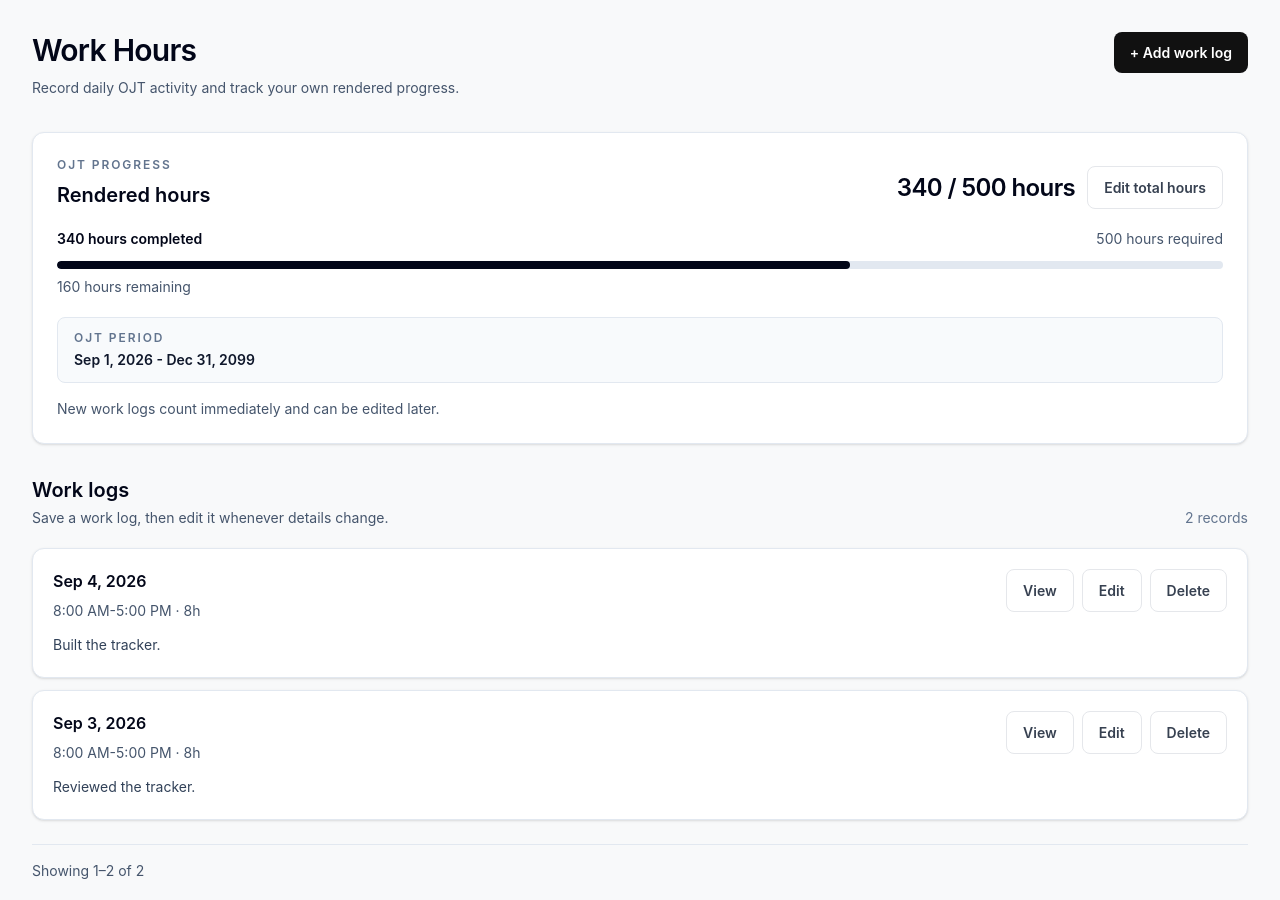
it: WorkHoursView › keeps the modal and entered values after validation failure
The width and height of the screenshot is (1280, 900).
Click the button with test id "add-work-log". click: (1181, 52)
box: [1114, 32, 1248, 73]
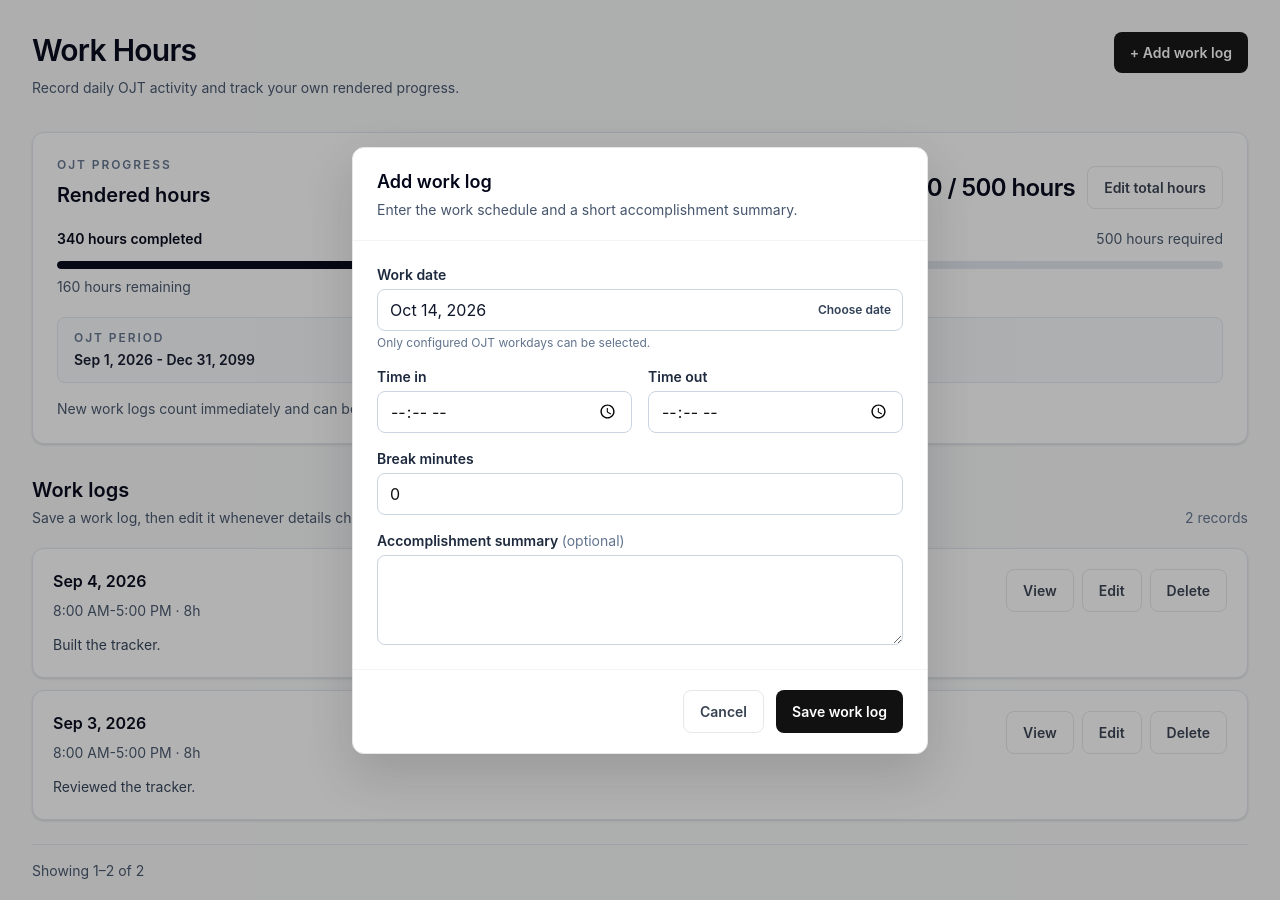
Type "08:00" into the time field with id "time-in". click: (504, 412)
box: [377, 390, 632, 432]
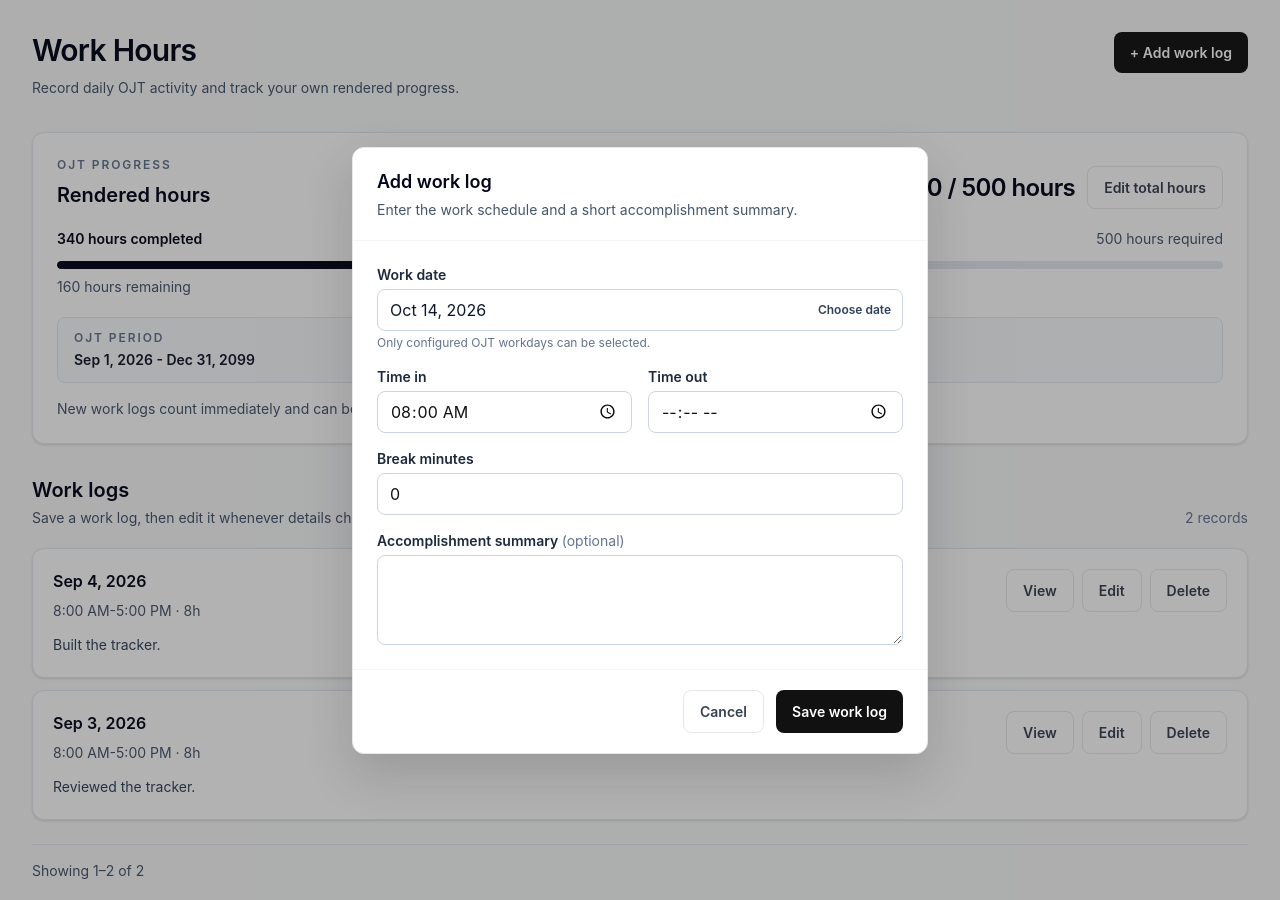
Type "17:00" into the time field with id "time-out". click: (776, 412)
box: [648, 390, 903, 432]
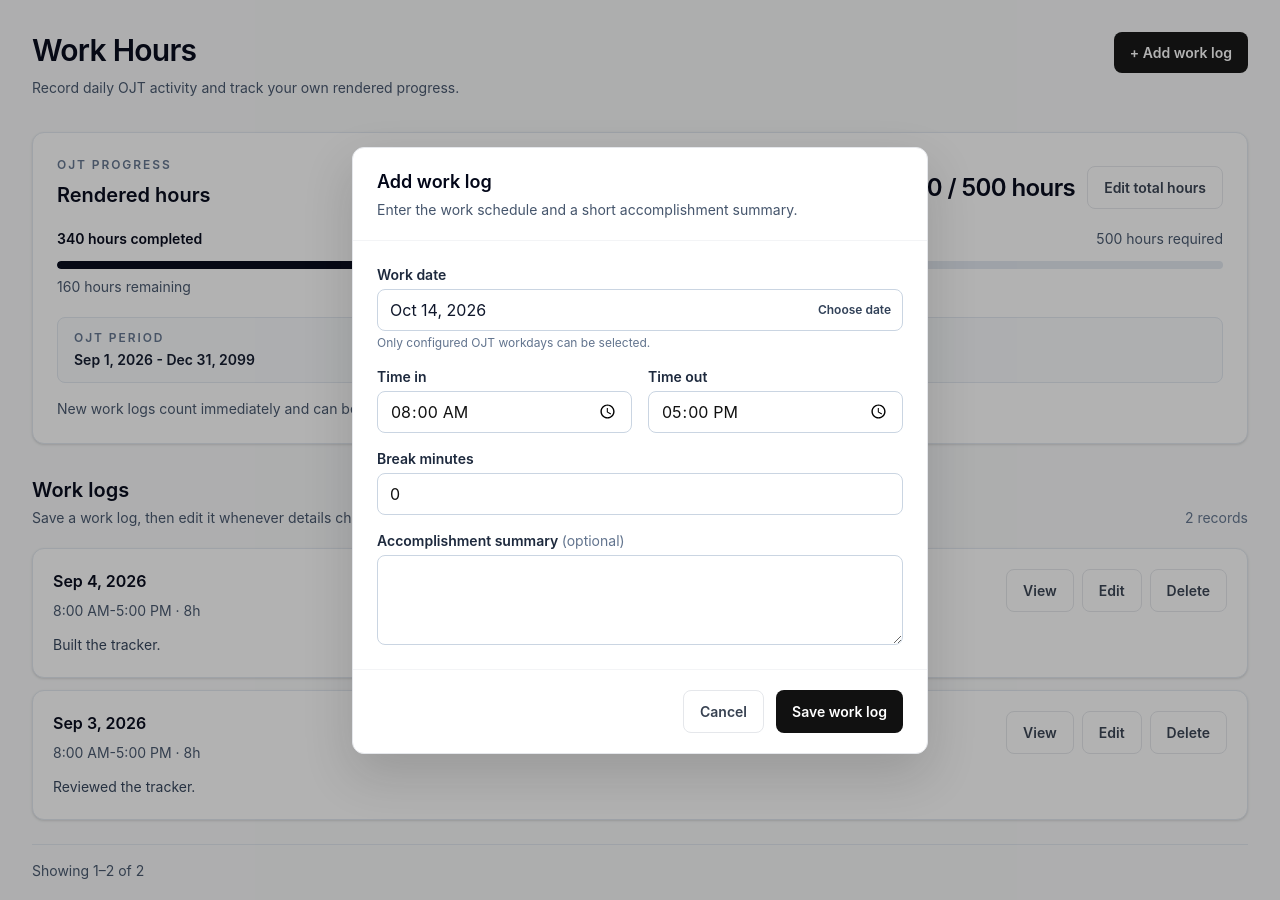
Replace the text in the number field with id "break-minutes" with "60". click: (640, 494)
box: [377, 472, 903, 514]
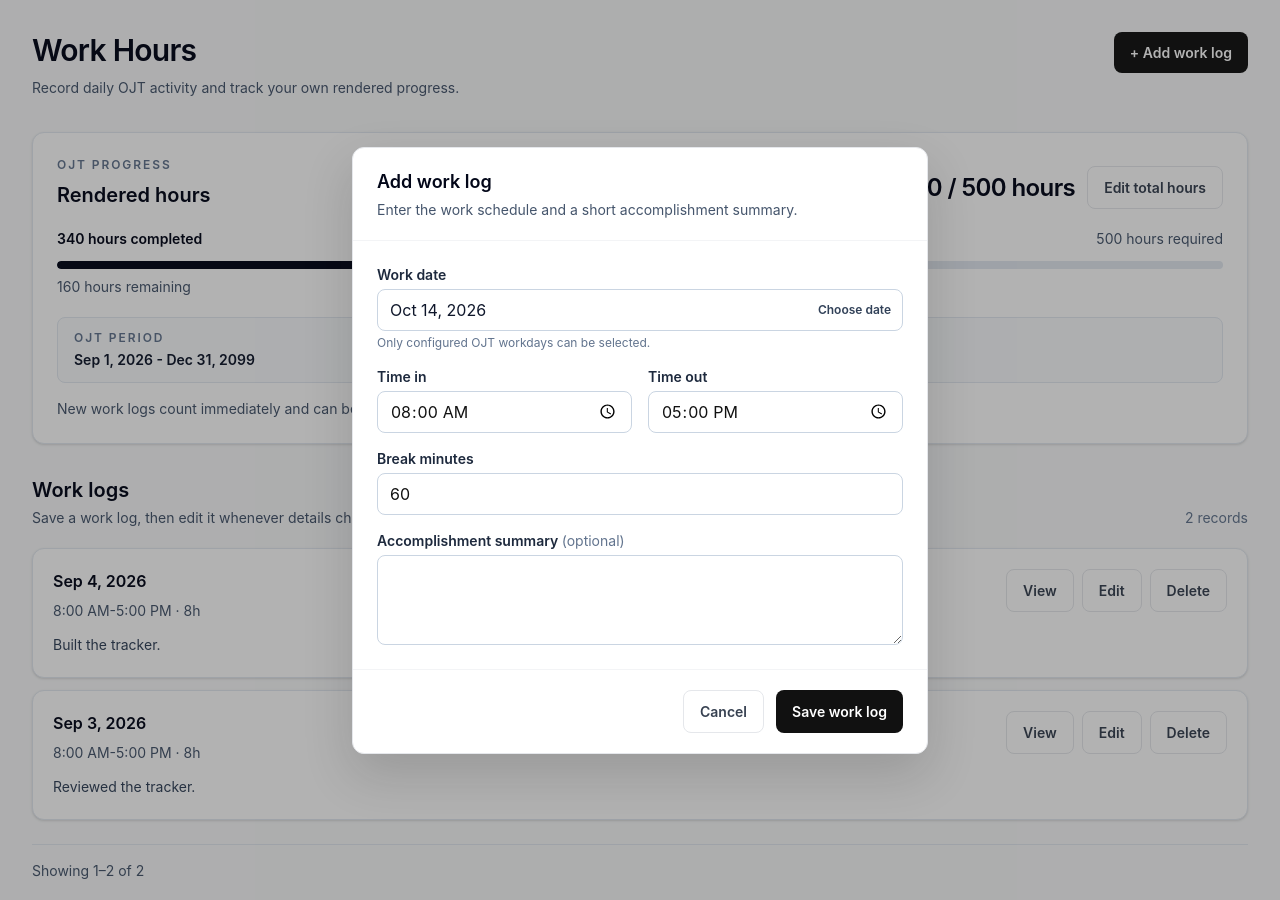
Click the submit button. click: (840, 711)
box: [776, 690, 903, 732]
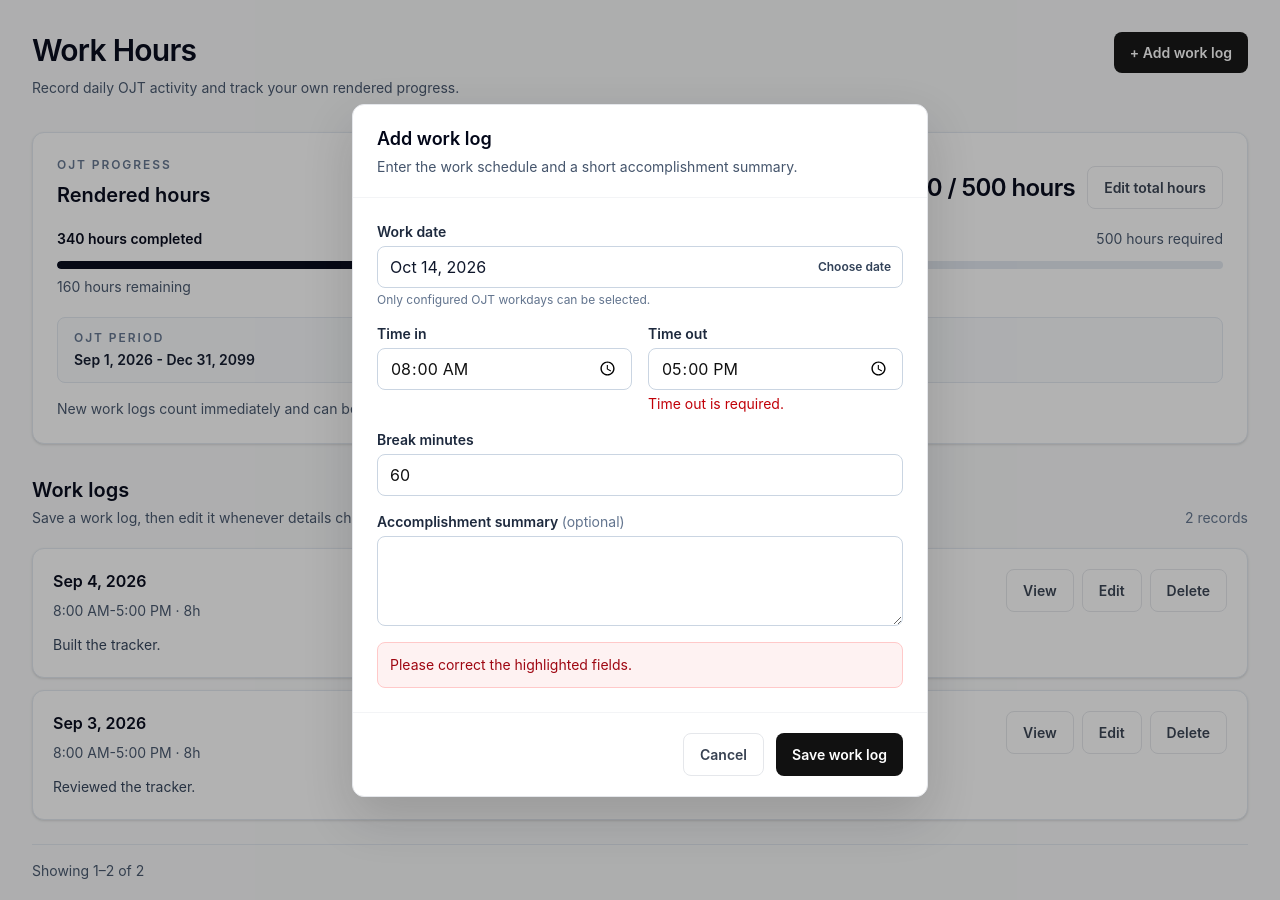
Check: the dialog is shown, box [352, 104, 928, 796]
Check: the text "Time out is required." is shown, box [648, 394, 784, 412]
